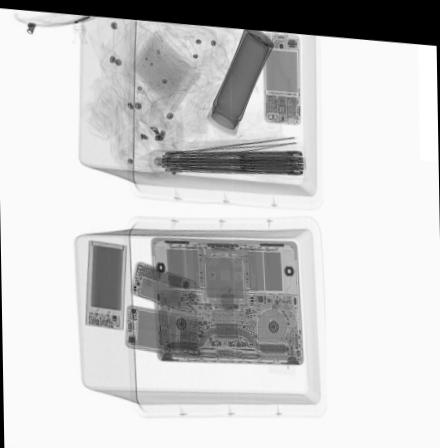Powerbank: (84, 237, 125, 327)
